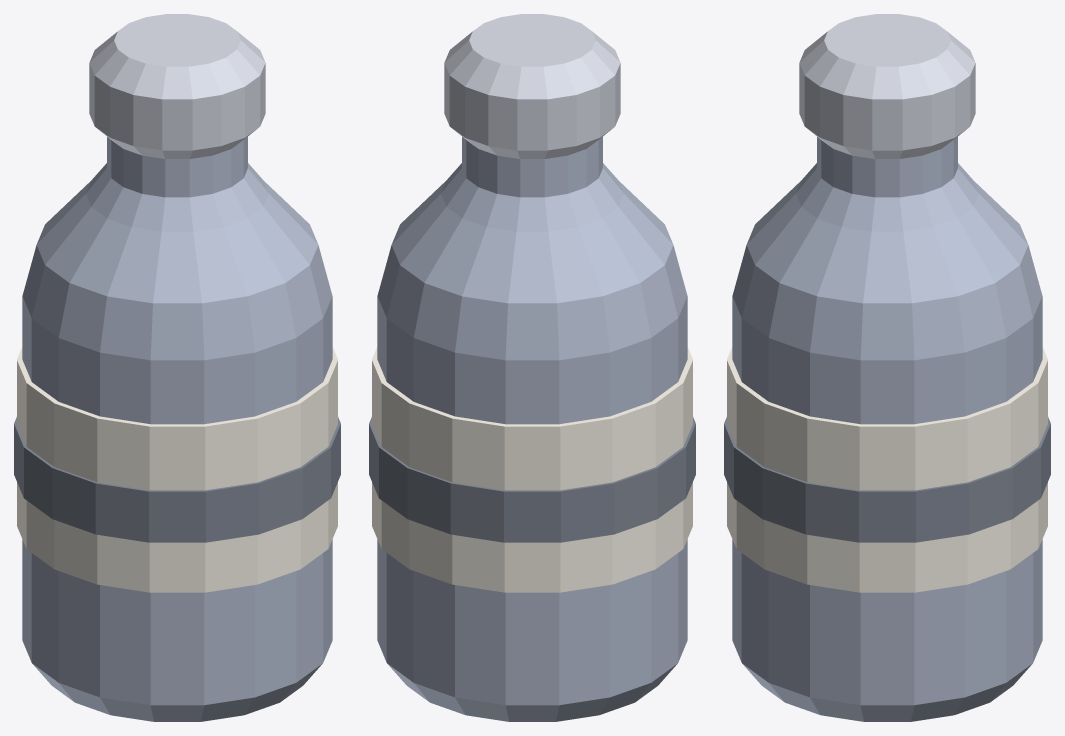
File: bottle.glb
3 renders of one model, left to right at view 1: azimuth 30°, elevation 25°; view 2: azimuth 150°, elevation 25°; view 3: azimuth 270°, elevation 25°, orthographic.
Parts seen in each view (by area): view 1: bottle; view 2: bottle; view 3: bottle.
Part boxes in pixels (<box>): bottle: <box>14,14,340,721</box>; bottle: <box>369,14,695,721</box>; bottle: <box>724,14,1050,721</box>.
Bounding box in the file's own units: 0.457 × 0.98 × 0.464.
